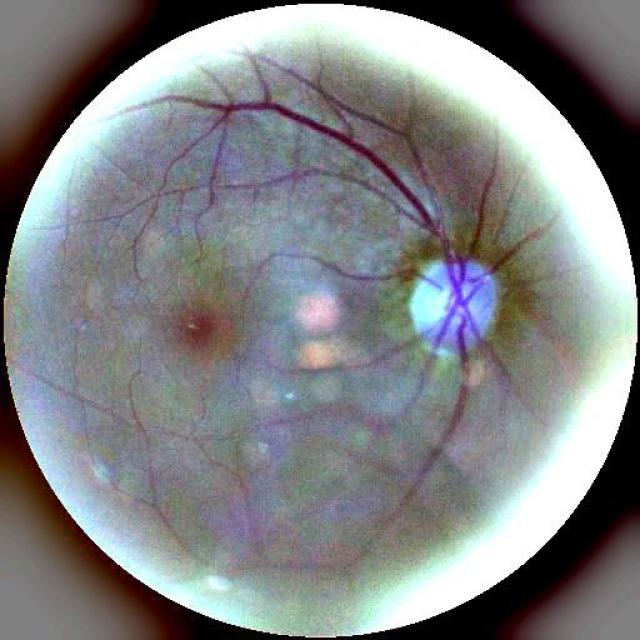Macula: (165, 293, 224, 370)
Nerves: (151, 54, 502, 499), (266, 60, 424, 178), (486, 226, 544, 272), (401, 360, 429, 411), (394, 264, 440, 289)
Optic Disk: (409, 258, 498, 355)
